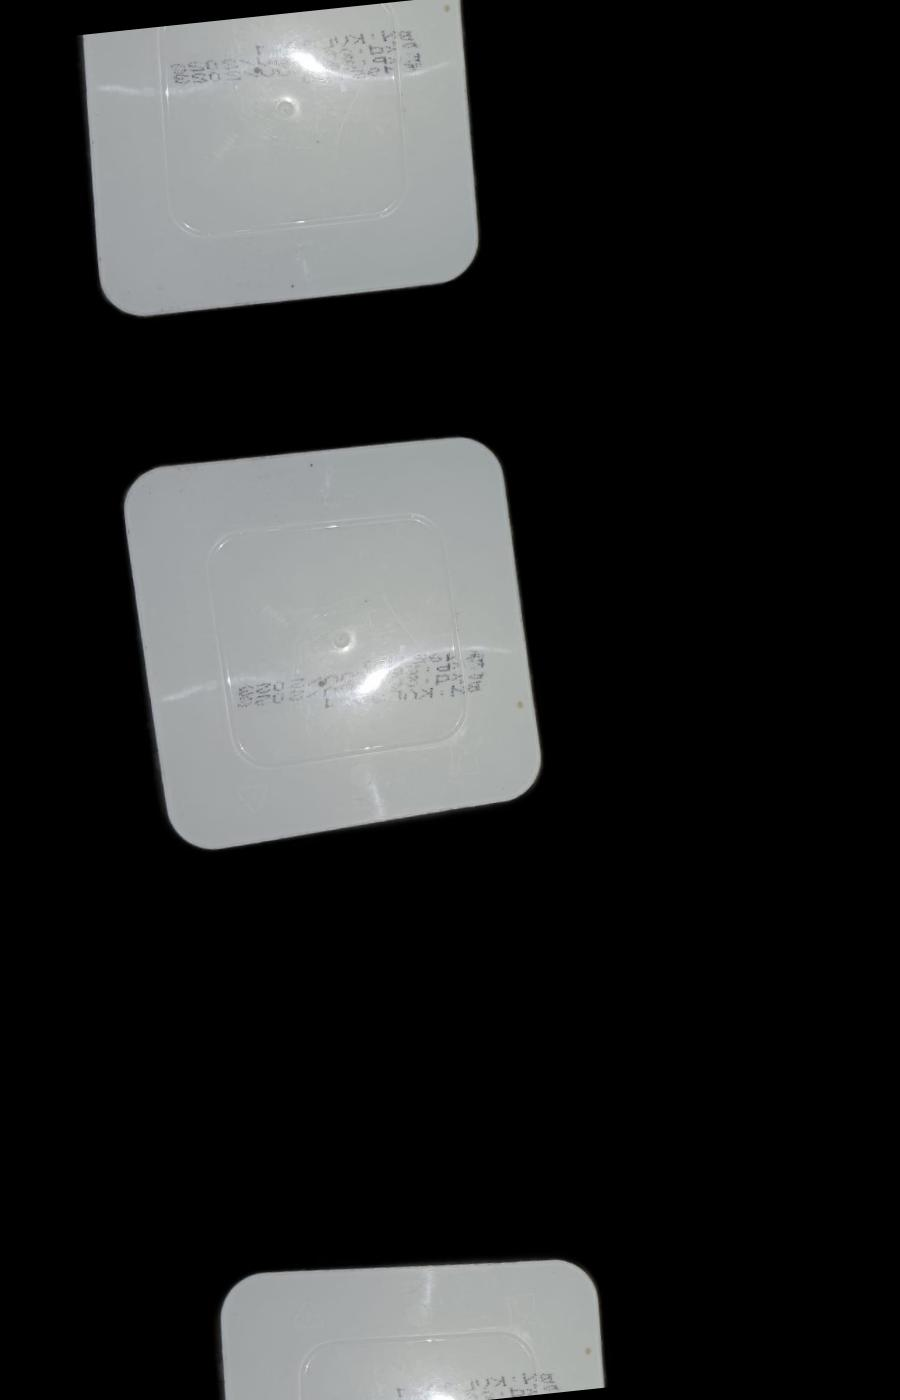Amul Ice Cream - Vanilla Magic 1 L Tub: (118, 426, 550, 866), (73, 0, 493, 326), (203, 1230, 609, 1400)
